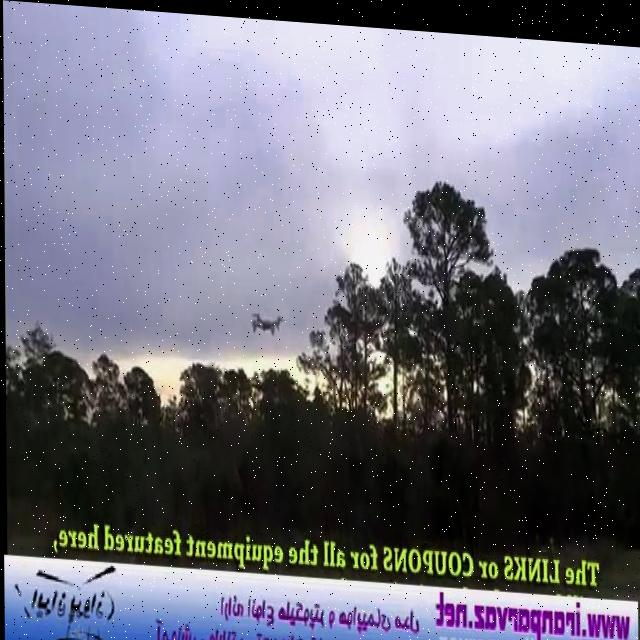drone: (249, 302, 286, 337)
